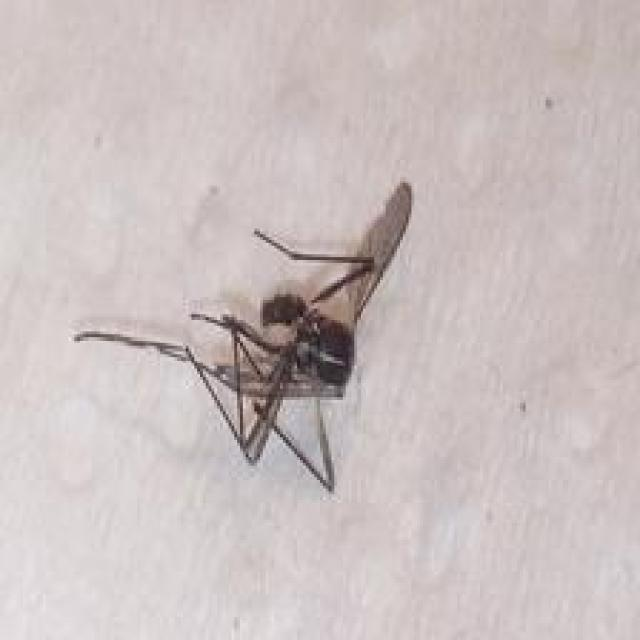Aedes albopictus: (72, 178, 414, 493)
